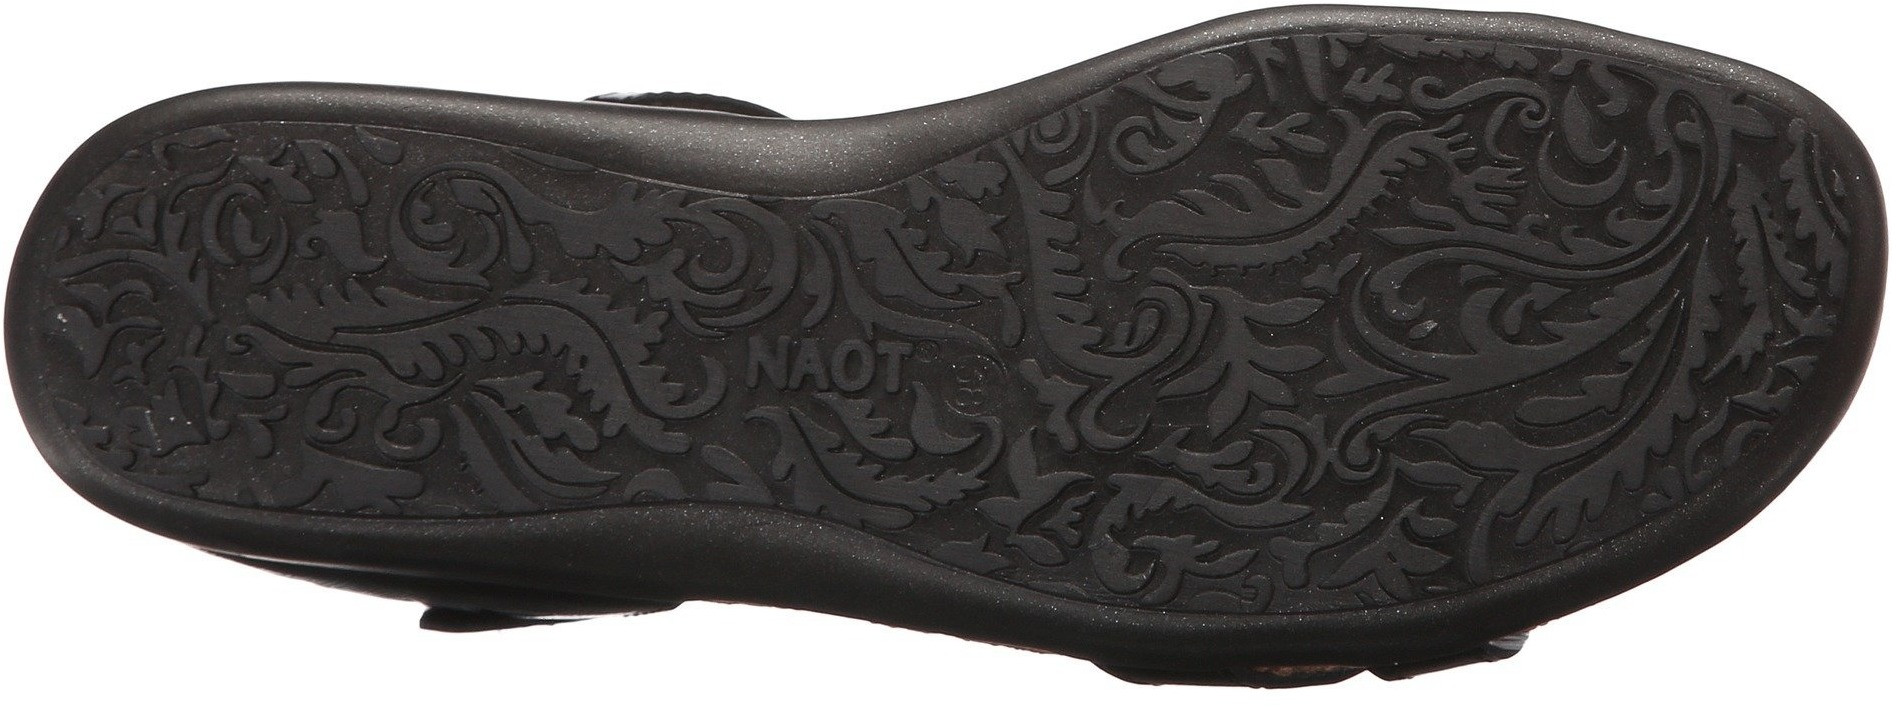exclude: (551, 59, 915, 122)
other: (918, 151, 1348, 538), (1342, 93, 1719, 455), (152, 146, 506, 471), (506, 247, 751, 469)
text: (732, 288, 919, 450)
